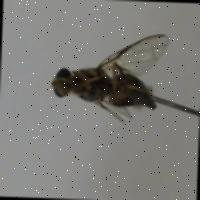Oriental-fruit-fly: (49, 24, 174, 125)
